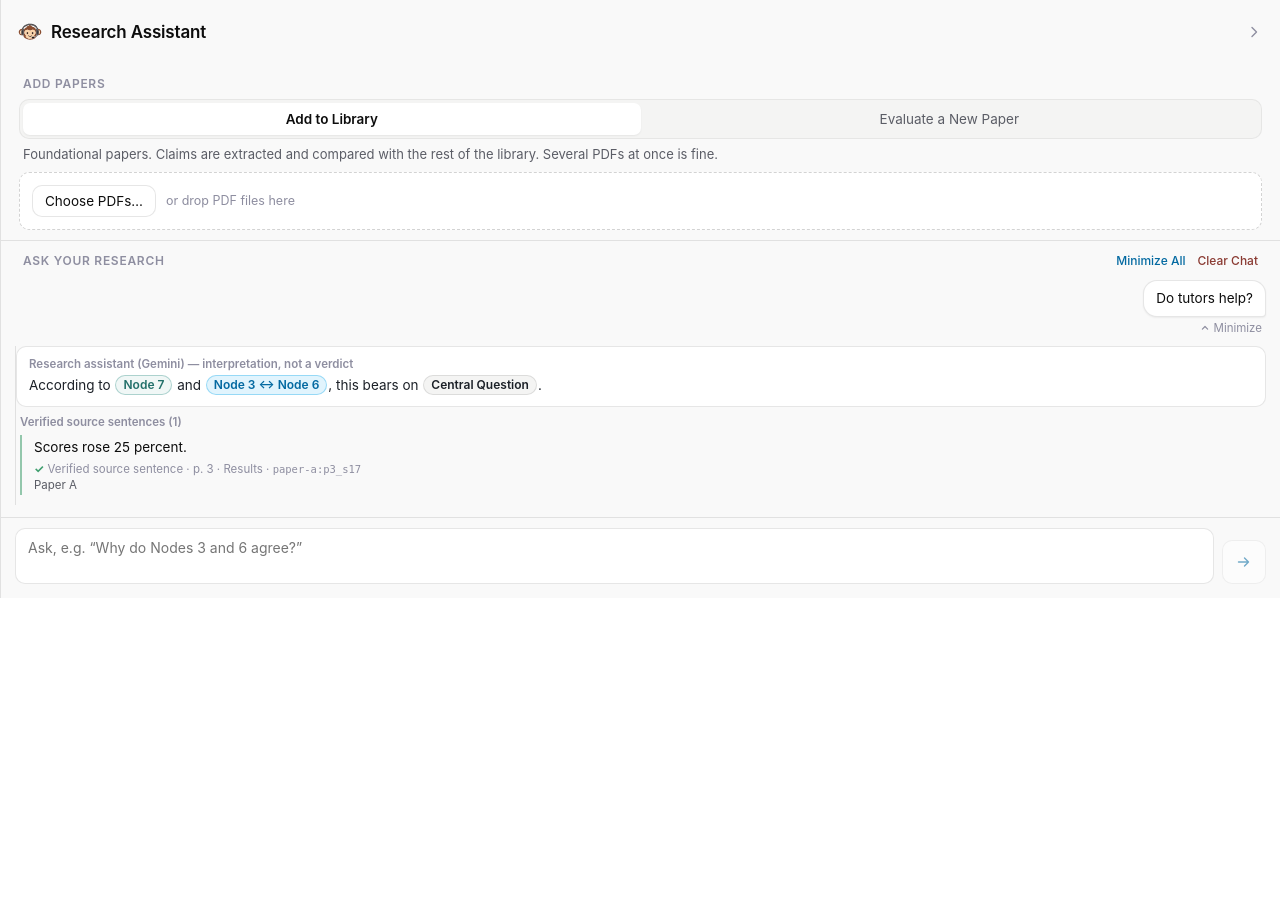
clearing the chat › a failed clear keeps the dialog open with the server message
The width and height of the screenshot is (1280, 900).
Click the button "Clear Chat" at (1228, 260), box [1197, 253, 1258, 268]
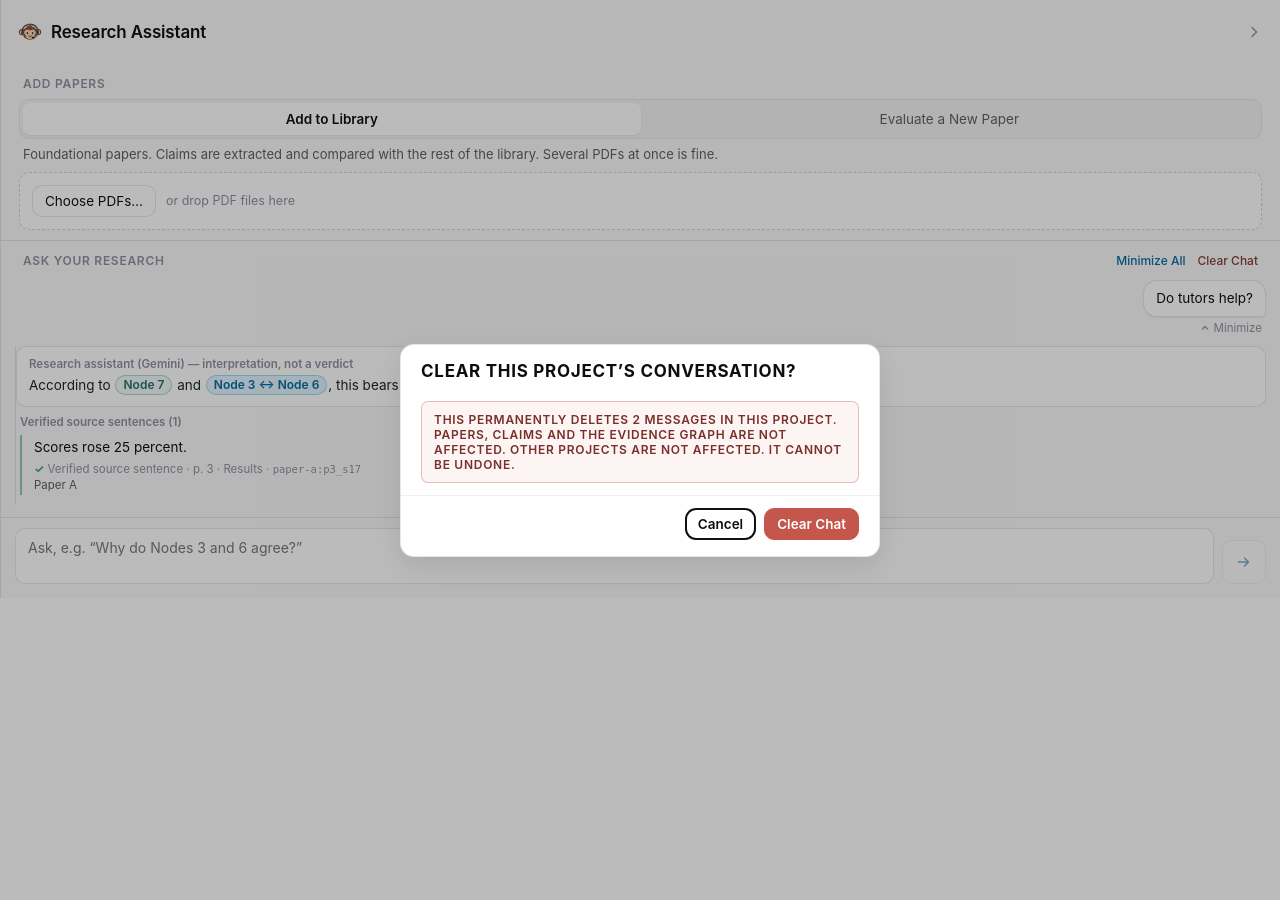
Click the button "Clear Chat" below "This permanently deletes" at (812, 524), box [764, 508, 859, 540]
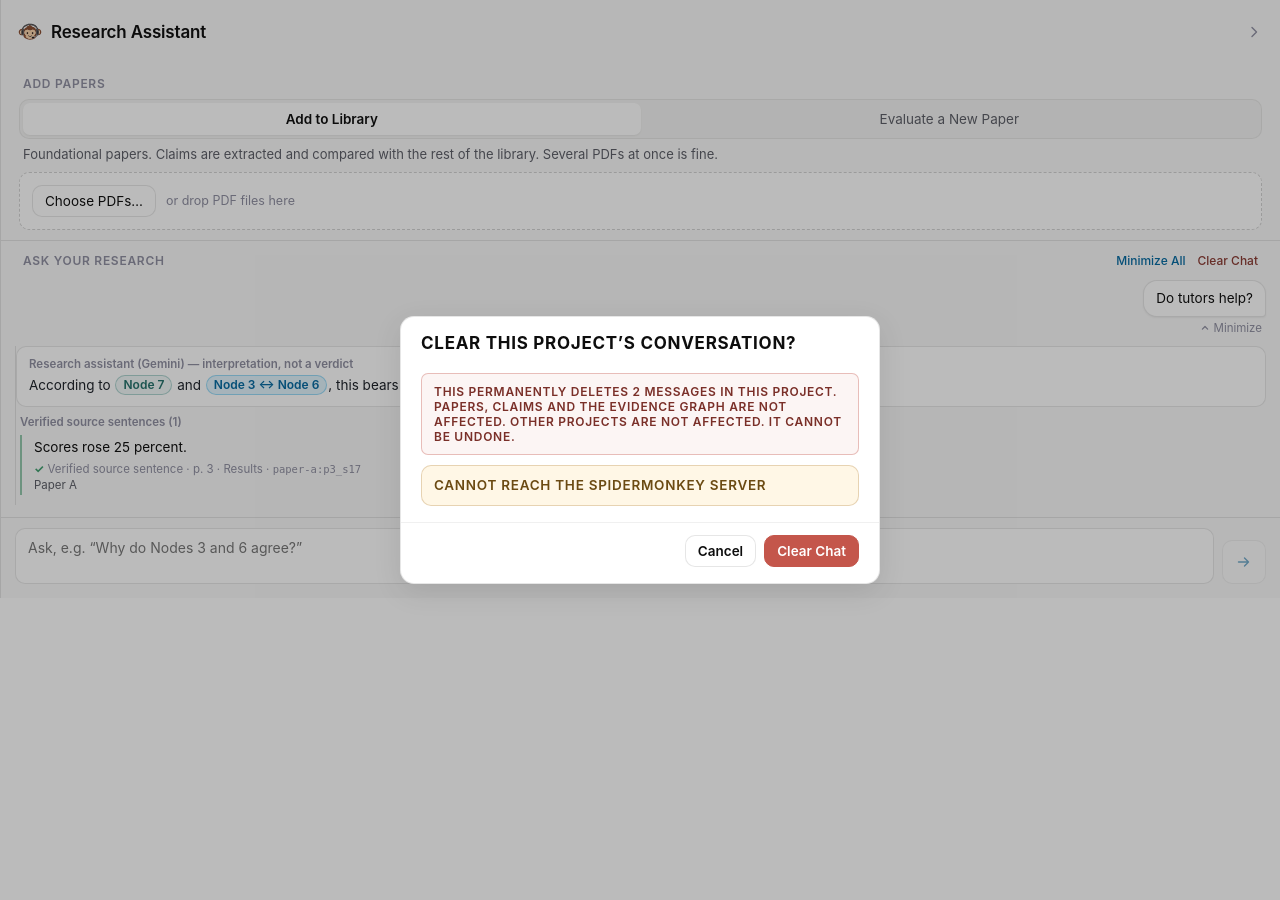
expect the message "Cannot reach the SpiderMonkey server" is shown: met, box [421, 465, 859, 506]
expect the message shows "Cannot reach": met, box [434, 477, 766, 493]
